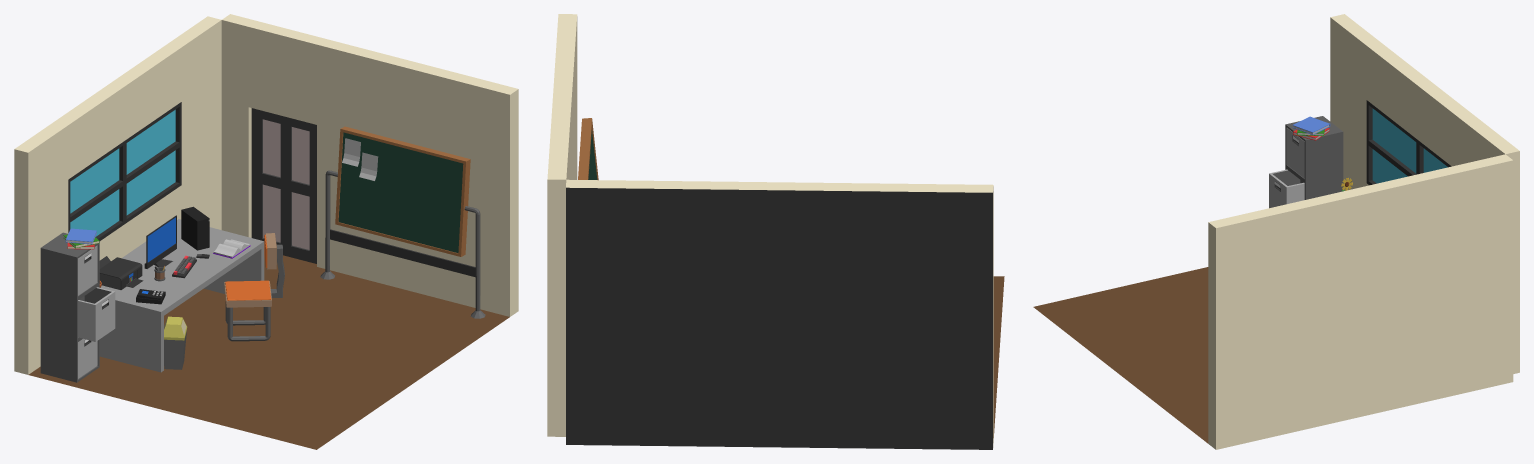
Rendered from room.glb.
3 renders of one model, left to right at view 1: azimuth 30°, elevation 25°; view 2: azimuth 150°, elevation 25°; view 3: azimuth 270°, elevation 25°, orthographic. The views are drawn at different scales.
Parts seen in each view (by area): view 1: Room, Board, Table, Drawer, Chair, Slot 2, Printer, Monitor, Trash Bin, PC, Slot 1, Slot 3; view 2: Room, Board; view 3: Room, Drawer, Slot 2, Slot 1.
Boxes of the visible parts, <box> form: Room: <box>14,14,518,449</box>; Board: <box>320,126,485,318</box>; Table: <box>99,219,264,372</box>; Drawer: <box>40,232,99,382</box>; Chair: <box>224,233,284,341</box>; Slot 2: <box>78,287,115,341</box>; Printer: <box>99,256,143,289</box>; Monitor: <box>144,215,176,268</box>; Trash Bin: <box>164,316,187,369</box>; PC: <box>181,206,209,250</box>; Slot 1: <box>78,245,97,295</box>; Slot 3: <box>78,338,97,378</box>; Room: <box>547,14,1004,449</box>; Board: <box>578,118,598,180</box>; Room: <box>1033,14,1519,449</box>; Drawer: <box>1285,116,1343,199</box>; Slot 2: <box>1269,169,1304,208</box>; Slot 1: <box>1287,128,1304,178</box>.
Bounding box in the file's own units: 47.53 × 22.94 × 45.64.
